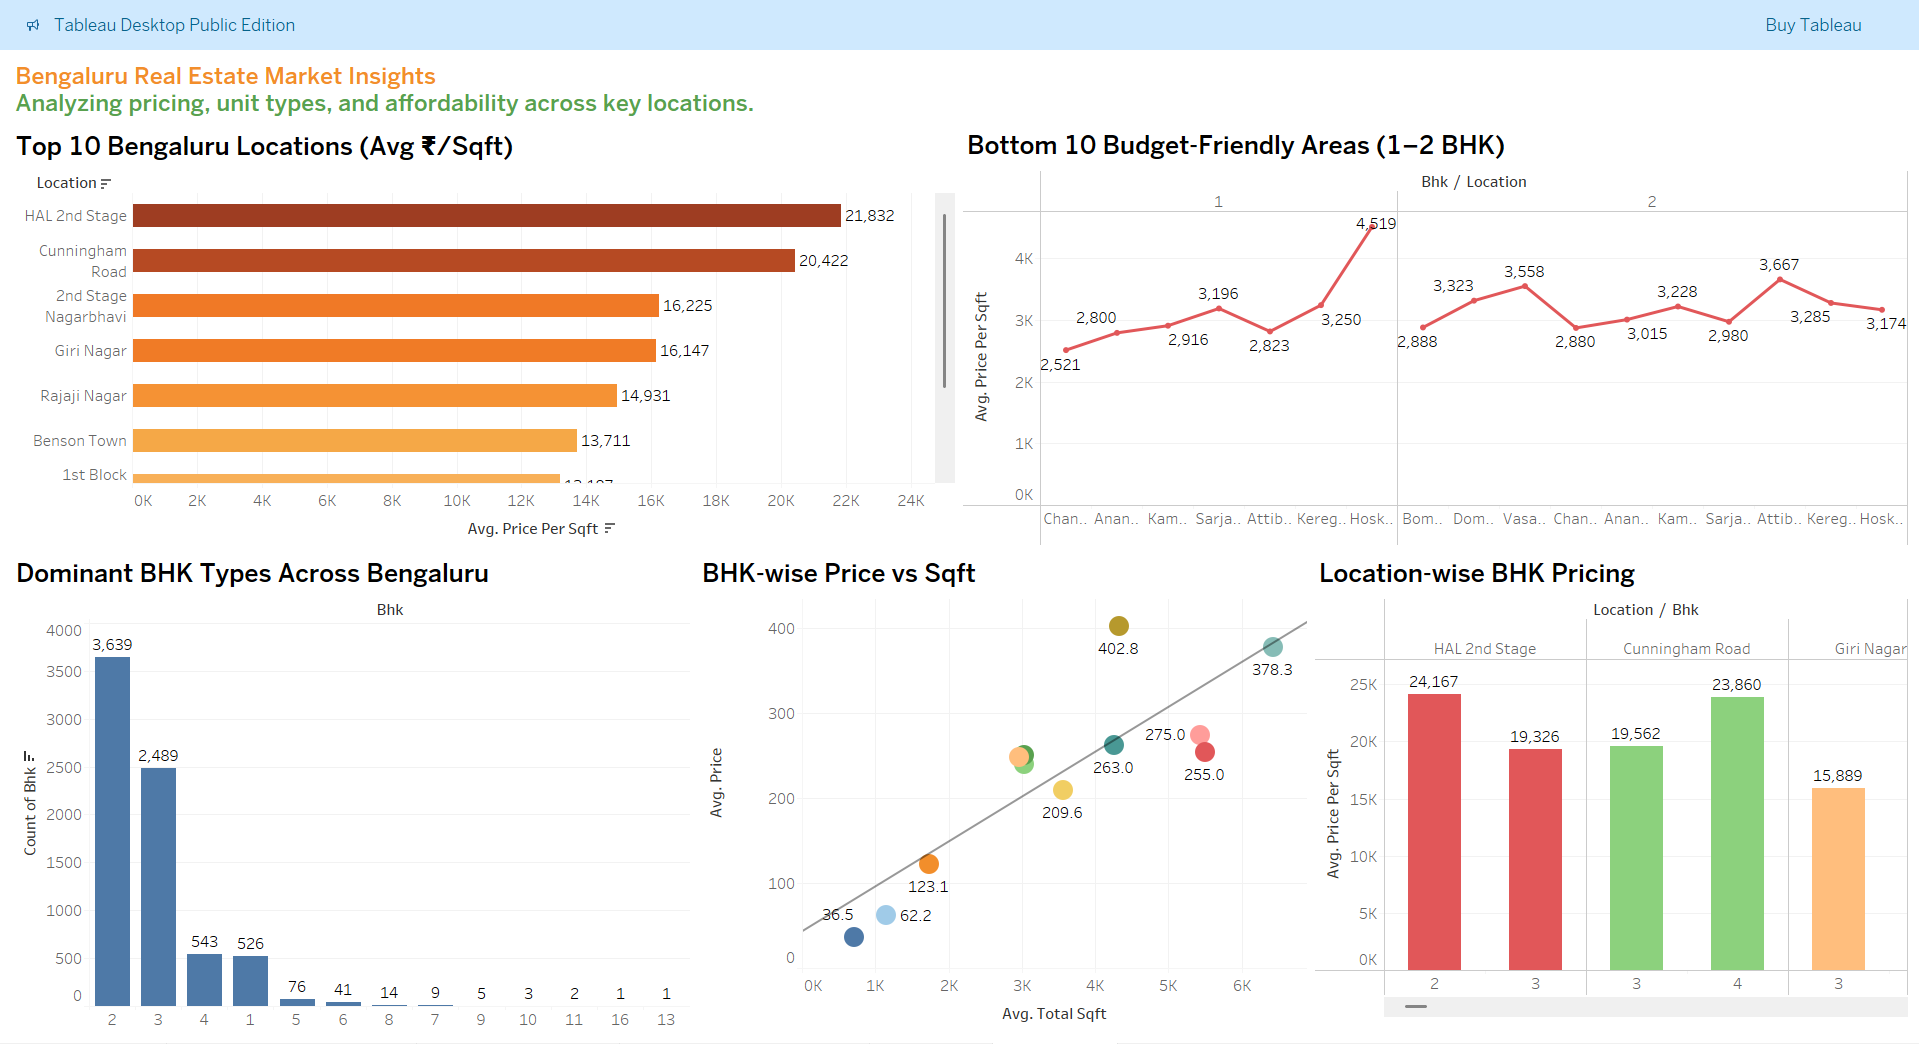

The page's visual inventory and layout, read from the dashboard file:
{"tool":"tableau","page":{"name":"Dashboard 1","canvas":[1000,1000],"units":"permille","ordinal":0},"visuals":[{"type":"title","box":[4.8,10,990.3,79.9]},{"type":"worksheet","title":"top_10_blr_locations","mark":"Automatic","rows":["location"],"cols":["price_per_sqft"],"box":[4.8,89.9,494.8,421.9]},{"type":"worksheet","title":"bottom_10_budget_friendly_areas","mark":"Line","rows":["price_per_sqft"],"cols":["bhk","location"],"box":[499.6,89.9,495.5,421.9]},{"type":"worksheet","title":"BHK_dominant","mark":"Automatic","rows":["bhk"],"cols":["bhk"],"box":[4.8,511.7,356.6,478.3]},{"type":"worksheet","title":"bhk_wise_price_vs_sqft_regression","mark":"Circle","rows":["price"],"cols":["total_sqft"],"box":[361.4,511.7,321.1,478.3]},{"type":"worksheet","title":"location_wise_bhk_pricing","mark":"Automatic","rows":["price_per_sqft"],"cols":["location","bhk"],"box":[682.5,511.7,312.6,478.3]}]}

Visuals, with their boxes on the dashboard's canvas, which has no fixed pixel size, in thousandths of its width and height (x1, y1, x2, y2). These are canvas units, not pixel positions in the 1919x1044 screenshot, which may show the page scaled, cropped or inside an application window:
title: [5,10,995,90]
"top_10_blr_locations" worksheet: [5,90,500,512]
"bottom_10_budget_friendly_areas" worksheet (Line marks): [500,90,995,512]
"BHK_dominant" worksheet: [5,512,361,990]
"bhk_wise_price_vs_sqft_regression" worksheet (Circle marks): [361,512,682,990]
"location_wise_bhk_pricing" worksheet: [682,512,995,990]
